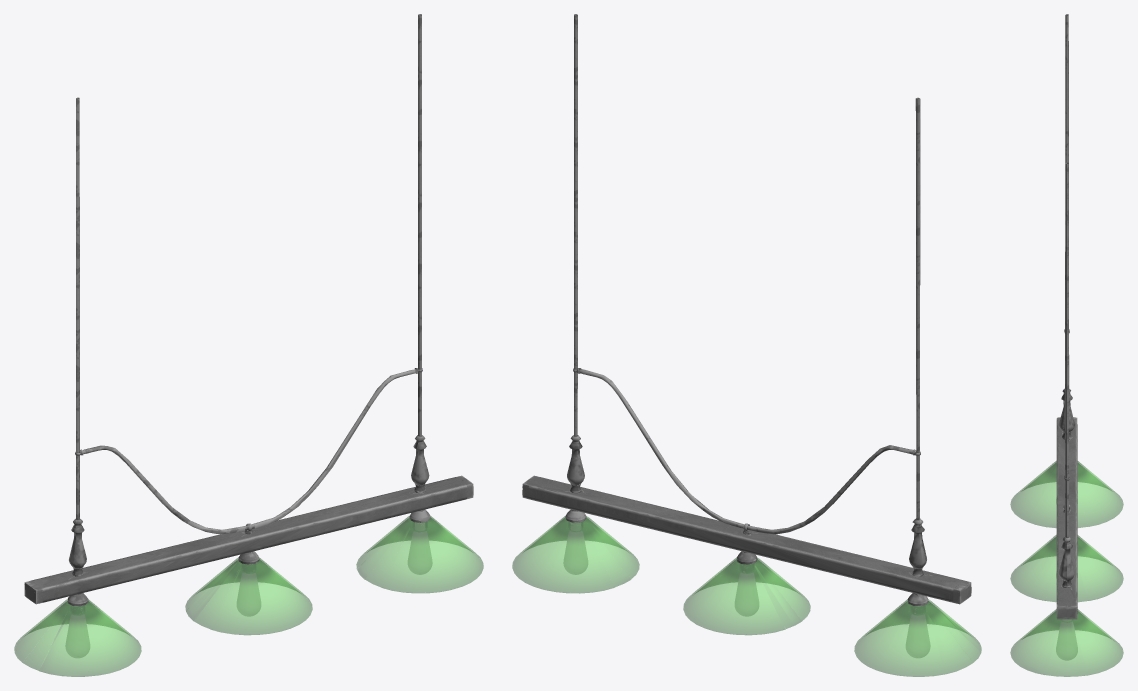
The model's file is LampsGreen.glb.
3 renders of one model, left to right at view 1: azimuth 30°, elevation 25°; view 2: azimuth 150°, elevation 25°; view 3: azimuth 270°, elevation 25°, orthographic. The views are drawn at different scales.
Visible parts, largest first — view 1: Pool Table Lamp @Mark Peters on Sketchfab_PoolTableLamp_MTL_, Pool Table Lamp2 - Lightbulb @Mark Peters on Sketchfab_PoolT, Pool Table Lamp1 - Lightbulb @Mark Peters on Sketchfab_PoolT, Pool Table Lamp3 - Lightbulb @Mark Peters on Sketchfab_PoolT; view 2: Pool Table Lamp @Mark Peters on Sketchfab_PoolTableLamp_MTL_, Pool Table Lamp2 - Lightbulb @Mark Peters on Sketchfab_PoolT, Pool Table Lamp1 - Lightbulb @Mark Peters on Sketchfab_PoolT, Pool Table Lamp3 - Lightbulb @Mark Peters on Sketchfab_PoolT; view 3: Pool Table Lamp @Mark Peters on Sketchfab_PoolTableLamp_MTL_, Pool Table Lamp3 - Lightbulb @Mark Peters on Sketchfab_PoolT.
Boxes of the visible parts, left/top/right/bottom form: Pool Table Lamp @Mark Peters on Sketchfab_PoolTableLamp_MTL_: left=14, top=14, right=483, bottom=676; Pool Table Lamp2 - Lightbulb @Mark Peters on Sketchfab_PoolT: left=237, top=573, right=260, bottom=615; Pool Table Lamp1 - Lightbulb @Mark Peters on Sketchfab_PoolT: left=66, top=615, right=89, bottom=657; Pool Table Lamp3 - Lightbulb @Mark Peters on Sketchfab_PoolT: left=408, top=531, right=431, bottom=574; Pool Table Lamp @Mark Peters on Sketchfab_PoolTableLamp_MTL_: left=512, top=14, right=981, bottom=676; Pool Table Lamp2 - Lightbulb @Mark Peters on Sketchfab_PoolT: left=735, top=573, right=758, bottom=615; Pool Table Lamp1 - Lightbulb @Mark Peters on Sketchfab_PoolT: left=906, top=615, right=929, bottom=657; Pool Table Lamp3 - Lightbulb @Mark Peters on Sketchfab_PoolT: left=564, top=531, right=587, bottom=574; Pool Table Lamp @Mark Peters on Sketchfab_PoolTableLamp_MTL_: left=1010, top=14, right=1123, bottom=676; Pool Table Lamp3 - Lightbulb @Mark Peters on Sketchfab_PoolT: left=1056, top=622, right=1077, bottom=659.
Bounding box in the file's own units: 1.26 × 1.48 × 0.3068.
Materials: 2 (2 with a texture image).
